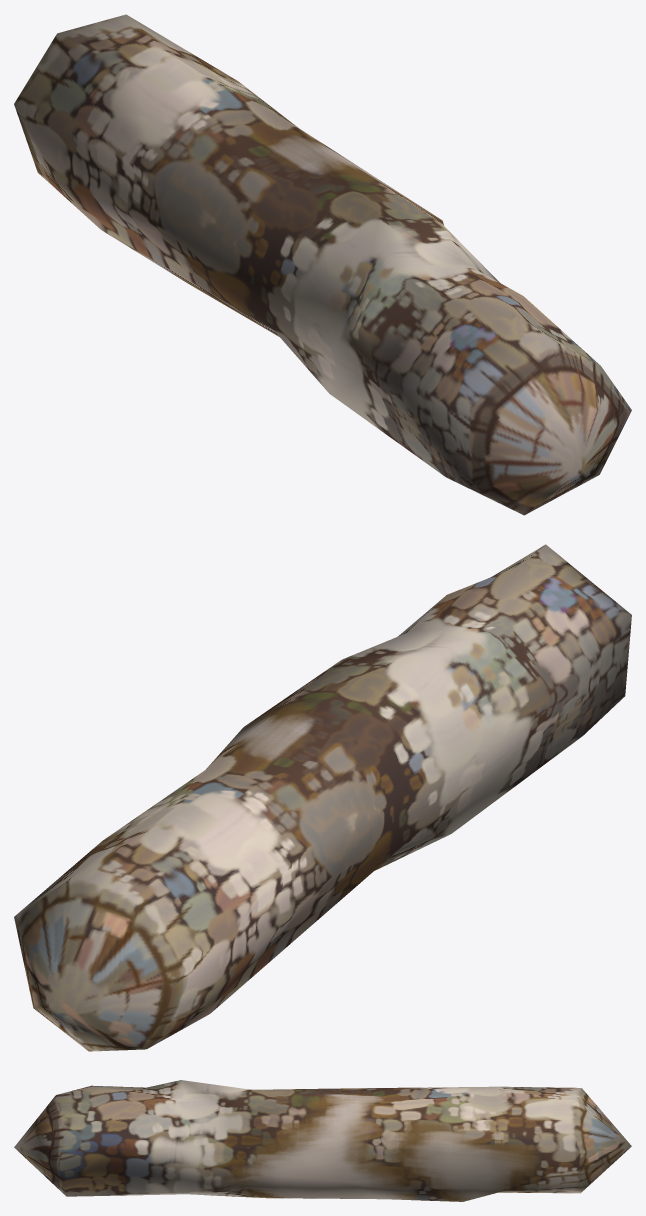
The model's file is birch_log_3.fbx.
The picture shows the model from 3 angles, top to bottom: view 1: azimuth 30°, elevation 25°; view 2: azimuth 150°, elevation 25°; view 3: azimuth 270°, elevation 25°; orthographic projection. The views are drawn at different scales.
Parts seen in each view (by area): view 1: birch_log_3; view 2: birch_log_3; view 3: birch_log_3.
Boxes of the visible parts, x1=… form: birch_log_3: x1=14, y1=14, x2=631, y2=515; birch_log_3: x1=14, y1=544, x2=631, y2=1051; birch_log_3: x1=14, y1=1080, x2=631, y2=1201.
Bounding box in the file's own units: 17.42 × 16.53 × 85.19.
